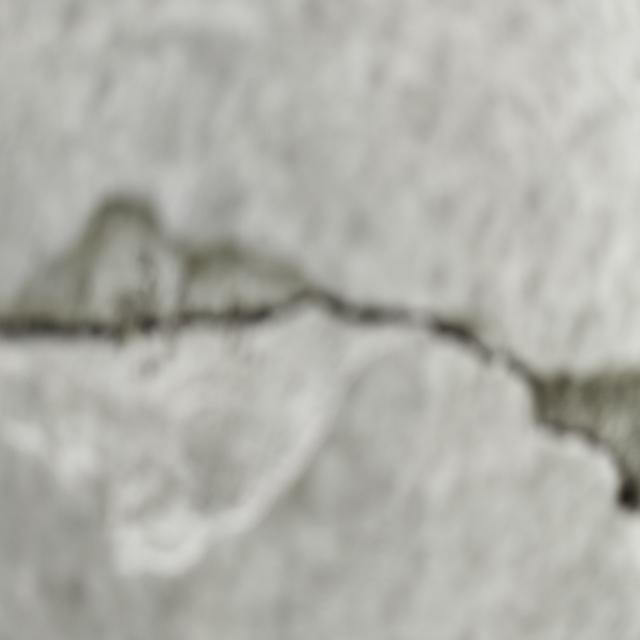curved crack: (0, 286, 639, 510)
